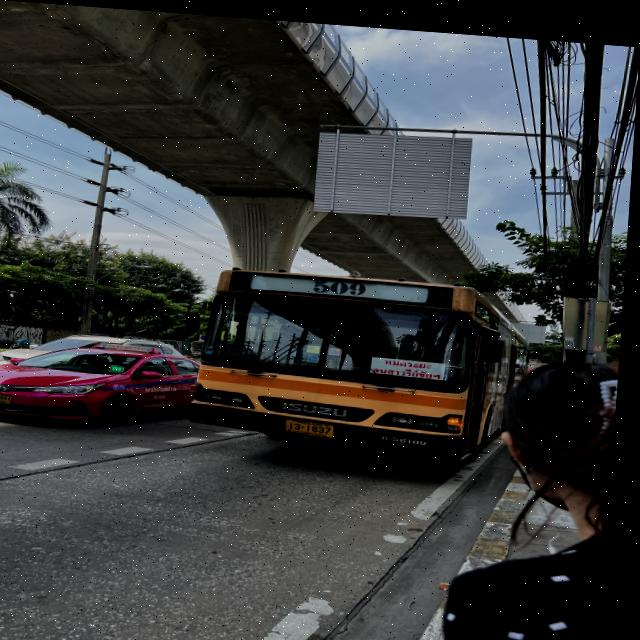BMTA-bus: (195, 262, 531, 459)
Bus-Line-Number: (311, 273, 376, 292)
Destination-Sign-Extra-Bus: (373, 351, 449, 373)
